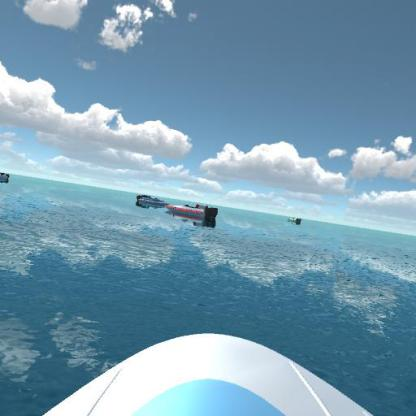usv0: (284, 213, 304, 227)
usv1: (132, 188, 169, 210), (1, 166, 12, 187)
usv3: (161, 200, 220, 229)
